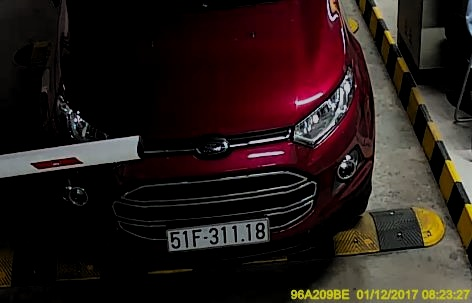plate: (159, 220, 269, 251)
